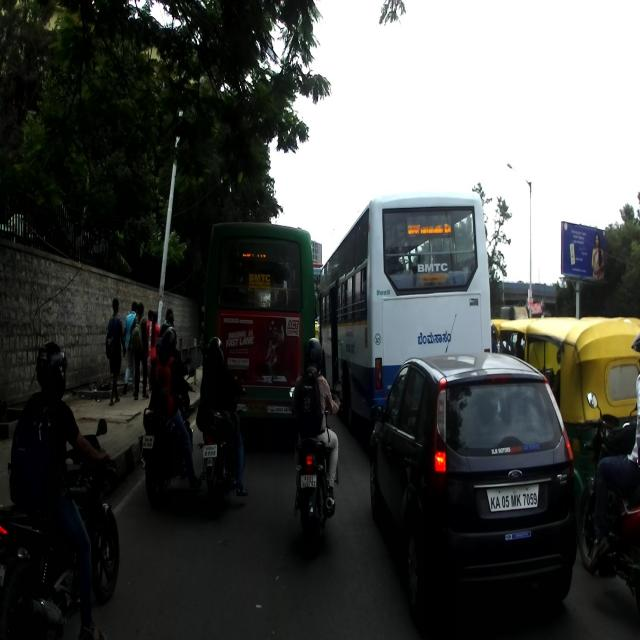autorickshaw: (520, 315, 639, 541)
bus: (316, 192, 492, 424), (201, 219, 316, 449)
car: (371, 314, 578, 637)
motorcycle: (0, 419, 121, 639), (582, 389, 638, 616), (288, 378, 343, 539), (140, 368, 196, 497), (197, 385, 248, 503)
